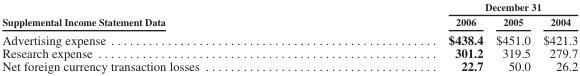table: (1, 0, 577, 72)
table column: (1, 0, 323, 72), (323, 0, 488, 72), (488, 0, 536, 72), (536, 0, 577, 72)
table column header: (1, 0, 577, 29)
table row: (1, 29, 577, 45), (1, 14, 577, 29), (1, 0, 577, 14), (1, 58, 577, 72), (1, 45, 577, 58)
table spanning cell: (1, 0, 323, 29), (323, 0, 577, 14)
